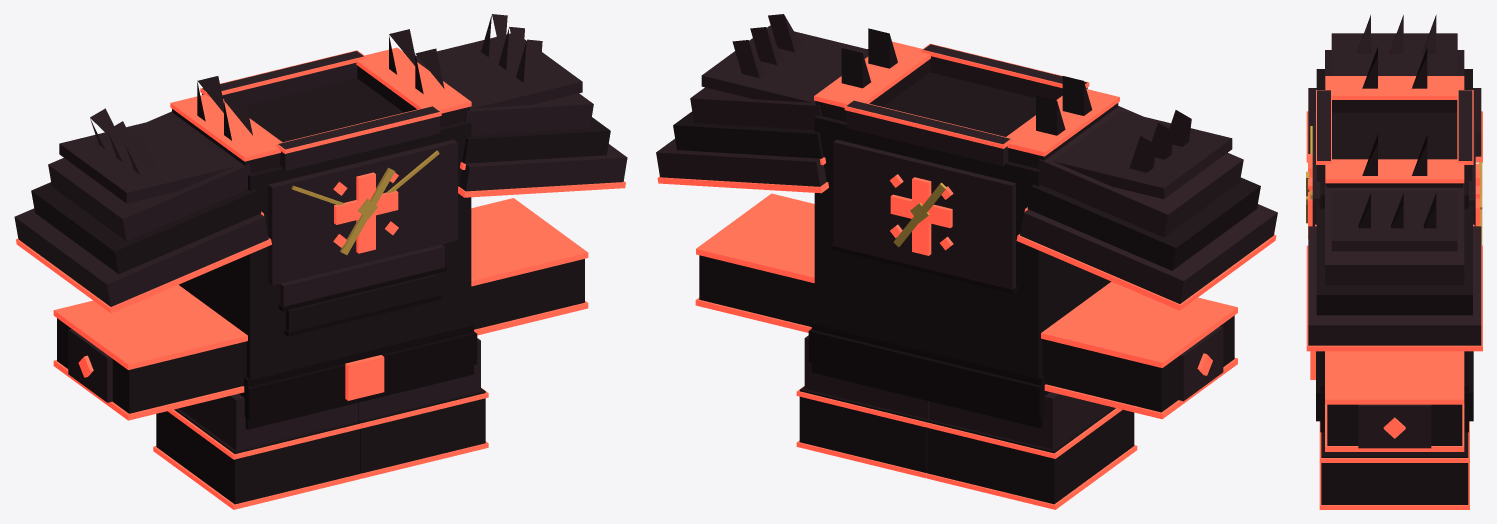
The picture shows the model from 3 angles, left to right: view 1: azimuth 30°, elevation 25°; view 2: azimuth 150°, elevation 25°; view 3: azimuth 270°, elevation 25°; orthographic projection. The views are drawn at different scales.
Visible parts, largest first — view 1: calamity-warplate; view 2: calamity-warplate; view 3: calamity-warplate.
Part boxes in pixels (box(x1,y1,x2,y2)): calamity-warplate: box(14, 14, 627, 509); calamity-warplate: box(656, 14, 1277, 509); calamity-warplate: box(1306, 15, 1482, 509).
Size of the model in its own units: 1.3 by 0.909 by 0.4087.
